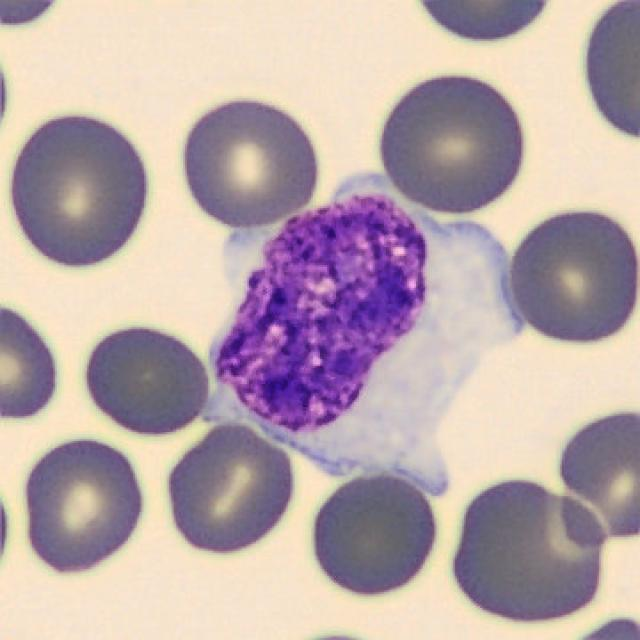Linfocito atipico: (204, 172, 519, 492)
